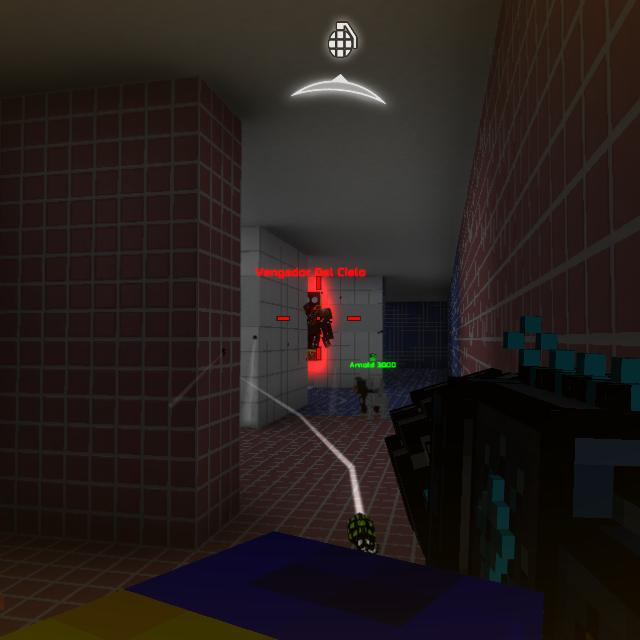Enemy: (308, 292, 334, 361)
